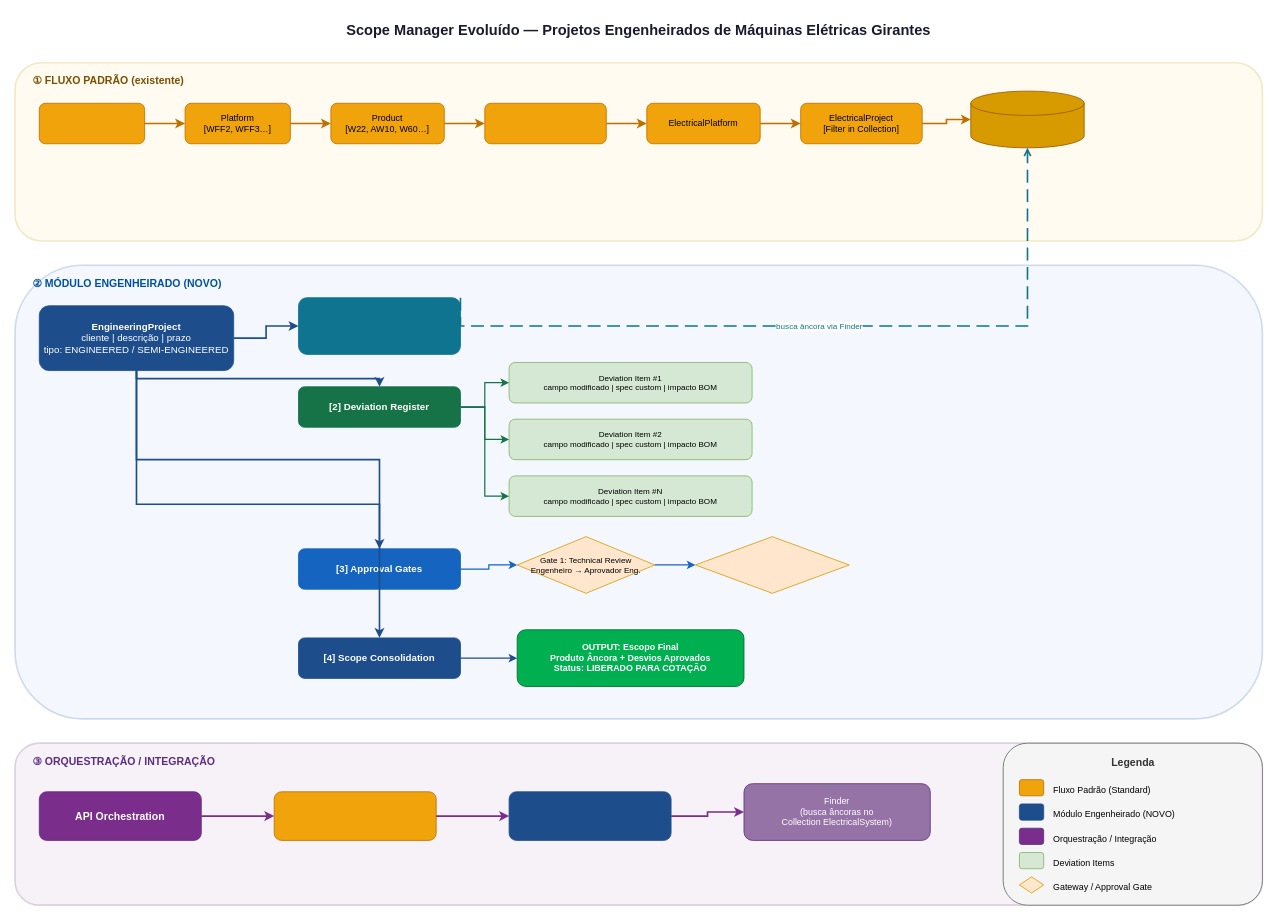
Image size: 1277x919. Some labels were removed from this diagram. The box of each missing label's shape, as (x1, y1, x2, y2) in pixels:
[1] Anchor Product Referência ao produto padrão (via Finder → Collection): (298, 297, 460, 354)
Collection ElectricalSystem: (970, 90, 1084, 148)
Commercial [W22 Brasil, AW10 A…]: (484, 102, 606, 144)
Configuration: (38, 102, 145, 144)
Engineering Module (Engineered Flow): (508, 791, 671, 840)
Gate 2: Commercial Review Comercial → Aprovador Comercial: (695, 536, 849, 593)
Scope Manager (Standard Flow): (273, 791, 436, 840)
